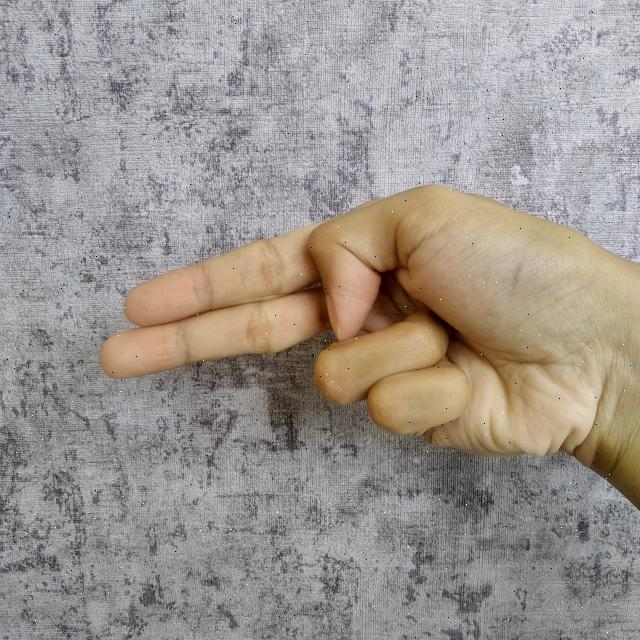H: (90, 168, 640, 516)
